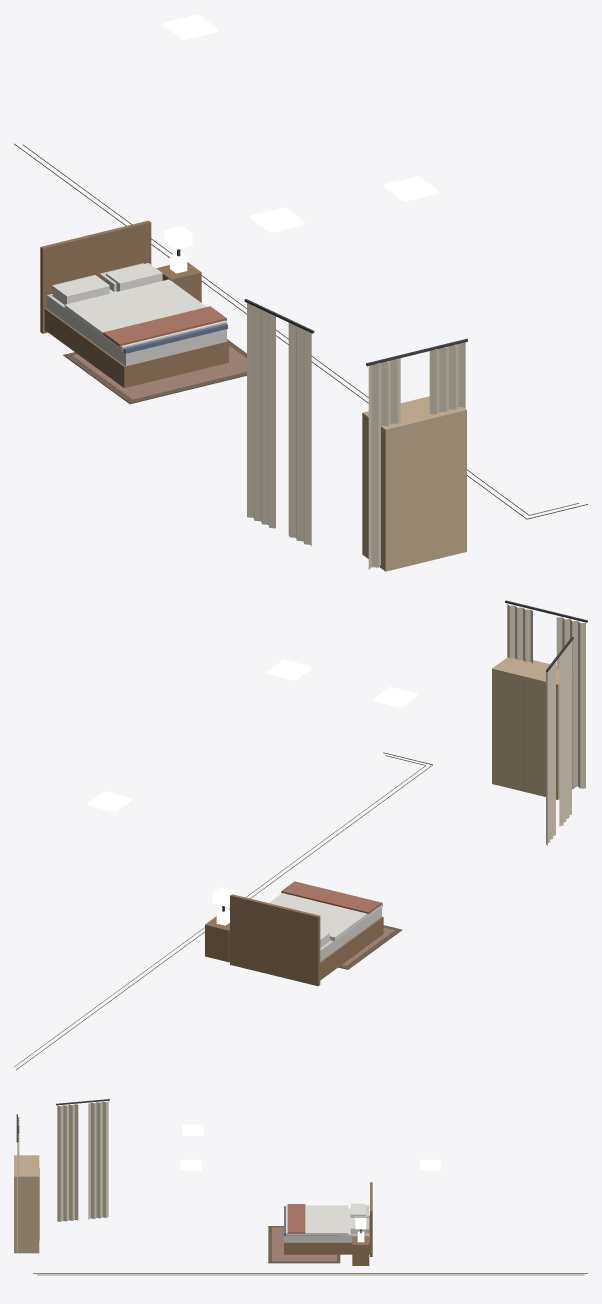
File: fine-s1.glb
3 renders of one model, top to bottom at view 1: azimuth 30°, elevation 25°; view 2: azimuth 150°, elevation 25°; view 3: azimuth 270°, elevation 25°, orthographic. The views are drawn at different scales.
Visible parts, largest first — view 1: soft-s1, dresser.000, bed-frame.000, nightstand.000, ceiling-lamp.003, ceiling-lamp.004, ceiling-lamp.005; view 2: soft-s1, bed-frame.000, dresser.000, nightstand.000; view 3: soft-s1, dresser.000, bed-frame.000, nightstand.000, ceiling-lamp.005.
Boxes of the visible parts, x1,y1,x2,y2 form: soft-s1: [14, 143, 587, 569]; dresser.000: [362, 396, 466, 571]; bed-frame.000: [40, 220, 228, 387]; nightstand.000: [156, 252, 201, 302]; ceiling-lamp.003: [164, 14, 217, 40]; ceiling-lamp.004: [384, 176, 437, 201]; ceiling-lamp.005: [251, 207, 304, 232]; soft-s1: [14, 600, 587, 1069]; bed-frame.000: [230, 894, 383, 986]; dresser.000: [492, 657, 575, 799]; nightstand.000: [205, 908, 229, 962]; soft-s1: [16, 1099, 587, 1275]; dresser.000: [14, 1155, 39, 1253]; bed-frame.000: [284, 1182, 372, 1256]; nightstand.000: [352, 1231, 369, 1265]; ceiling-lamp.005: [182, 1124, 203, 1135].
Size of the model in its own units: 4.03 by 3.11 by 13.57.
